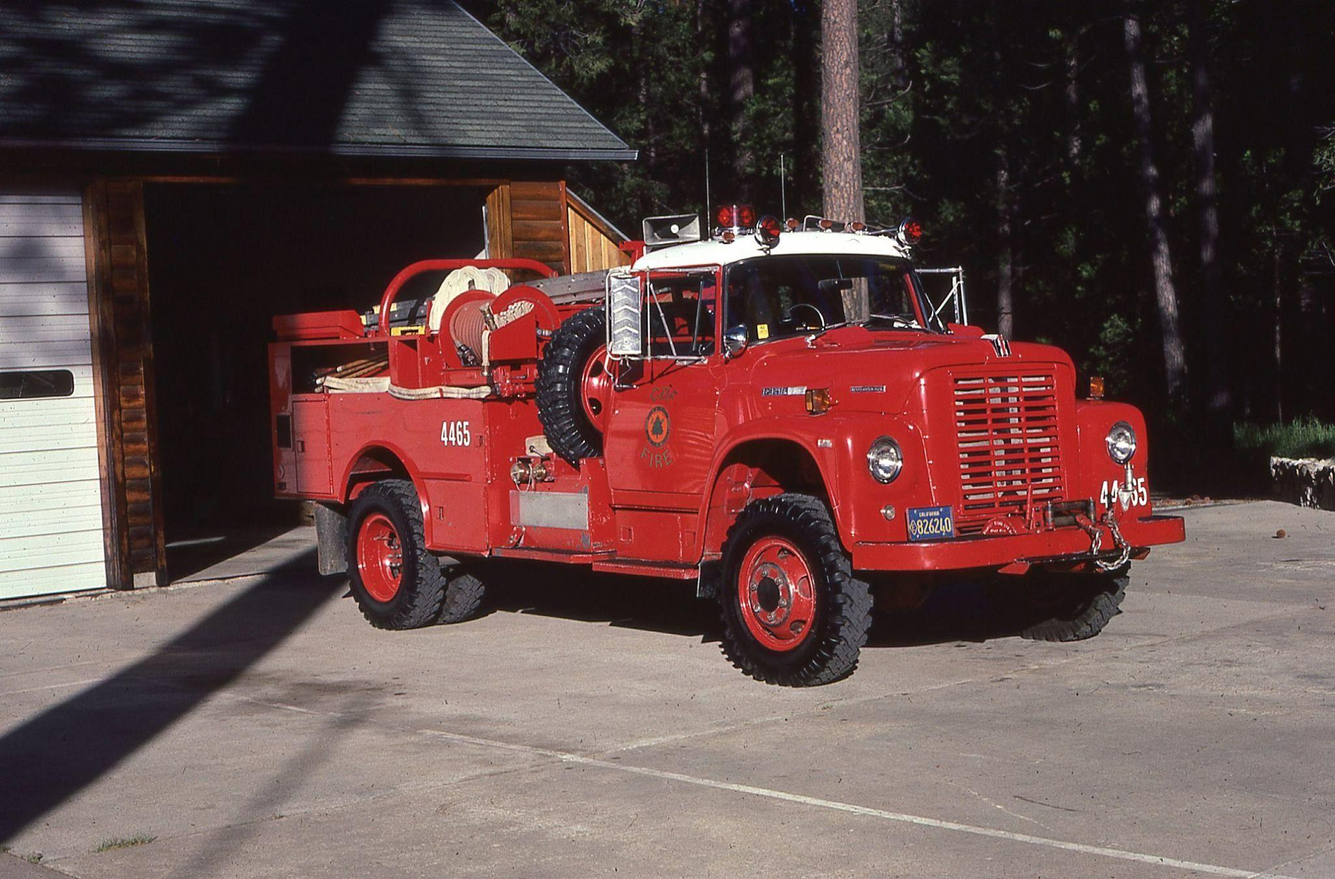Fire-engine: (265, 201, 1186, 688)
